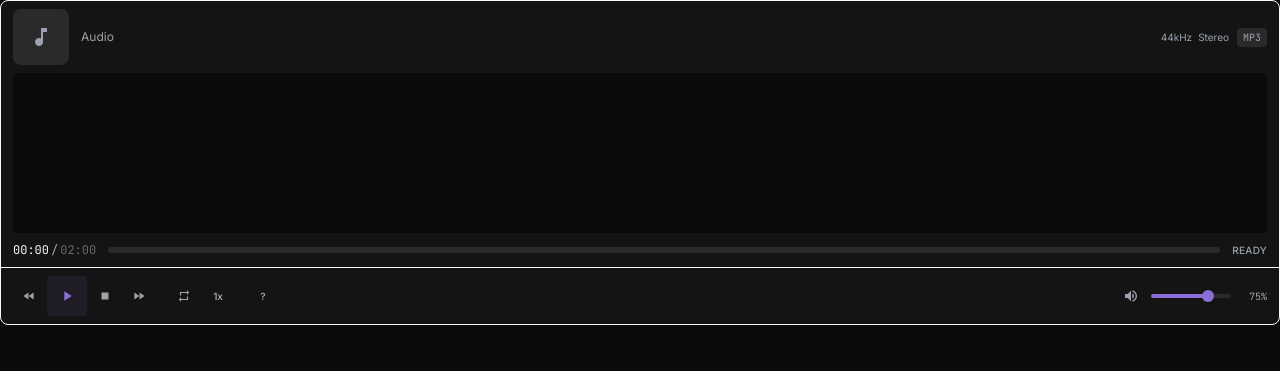
Test: AudioPlayer component › button interactions › shows inline error when audio_resume rejects, keeps player controls visible
The width and height of the screenshot is (1280, 371).
Expected: the text "Ready" is shown, 1232,242 -> 1267,258
Step 1. Click the button named "Play" → (67, 296), box 47,276 -> 87,316
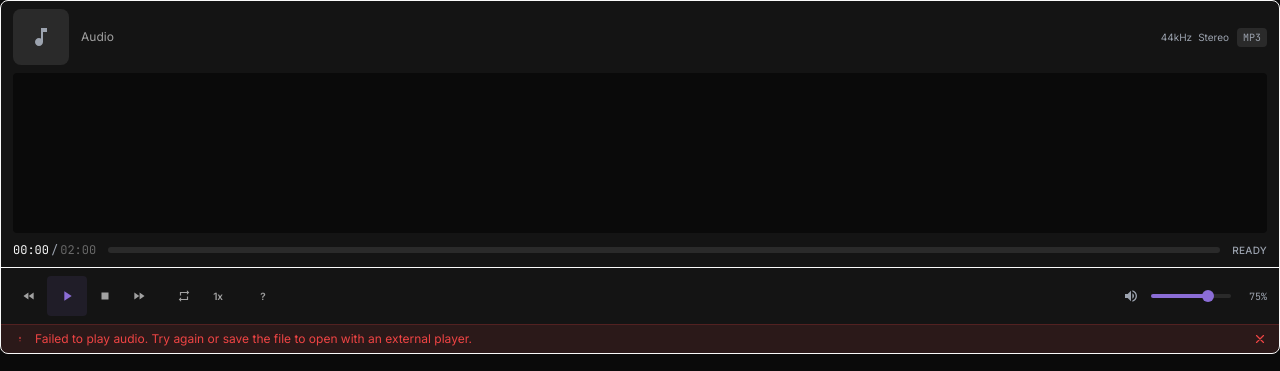
Expected: the button named "Stop" is shown, 89,280 -> 121,312
Result: the message shows "Failed to play audio" at 35,331 -> 472,346
